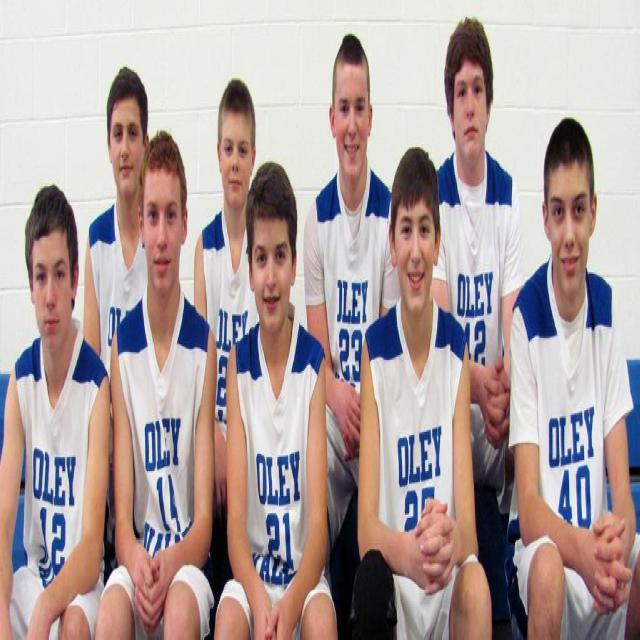Face: (247, 194, 306, 337), (546, 154, 598, 301), (392, 179, 443, 325), (137, 156, 185, 298), (30, 221, 79, 353), (452, 31, 493, 176), (210, 82, 258, 200), (336, 47, 373, 182), (105, 87, 152, 190)
